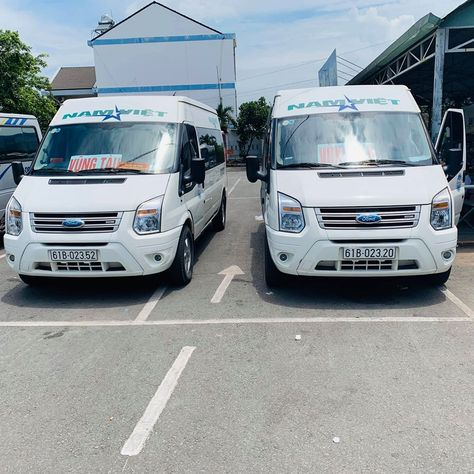number-plate: (342, 245, 397, 261), (48, 247, 98, 263)
